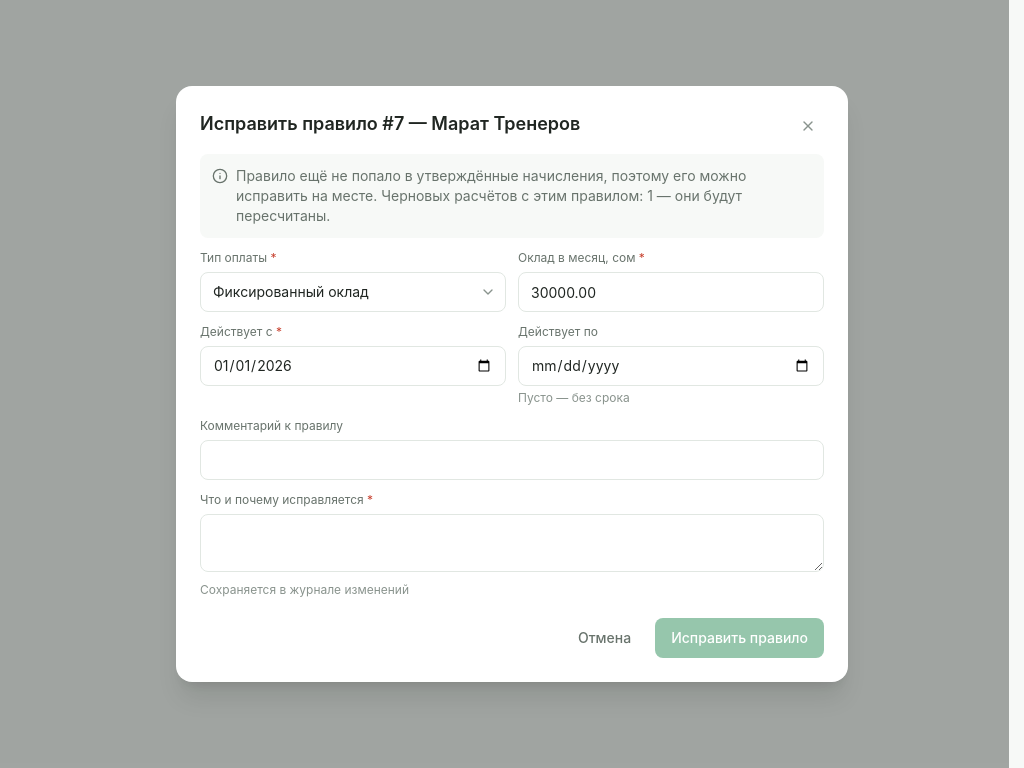
Test case: RuleCorrectionModal › shows the backend validation error and keeps the dialog open
Type "даты" into the text box labelled "Что и почему исправляется *". click: (512, 543)
box: top-left (200, 514), bottom-right (824, 572)
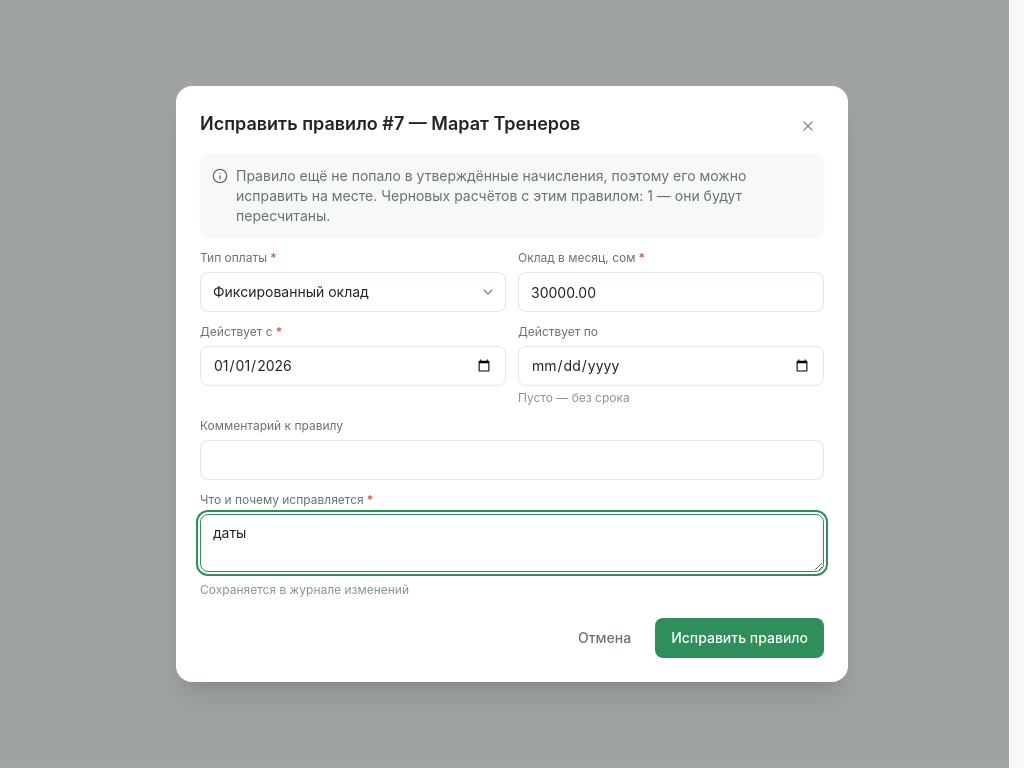
Click the button "Исправить правило". click: (740, 638)
box: top-left (655, 618), bottom-right (824, 658)
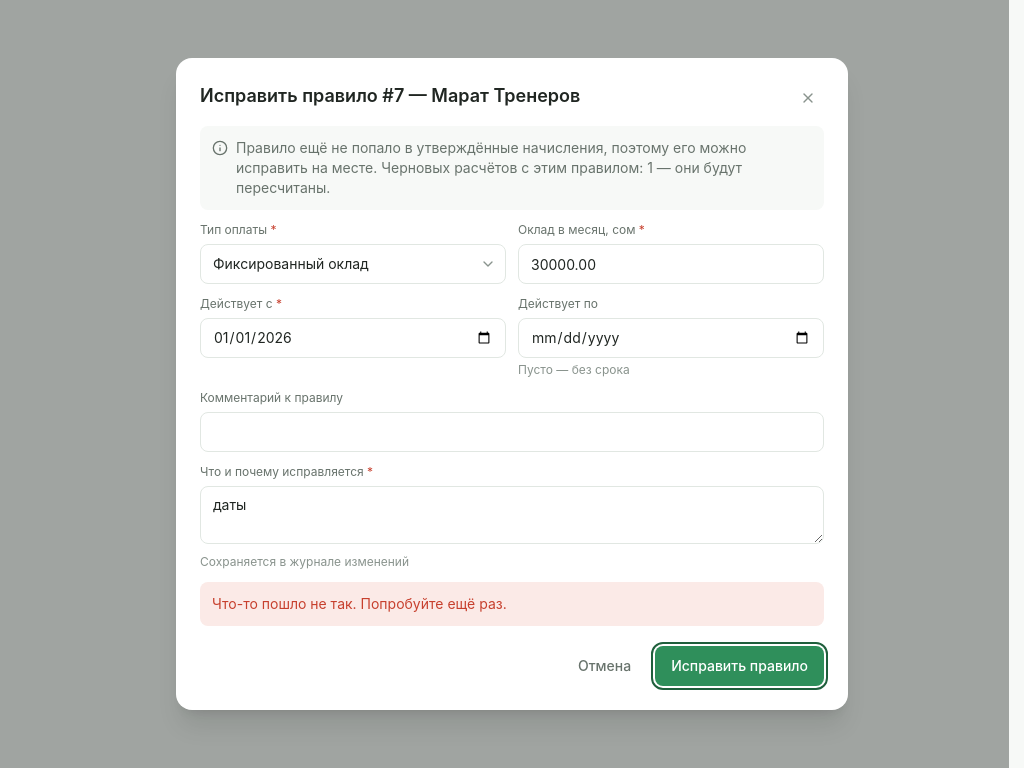
Expected: the message "Что-то пошло не так. Попробуйте ещё раз." is shown, top-left (200, 582), bottom-right (824, 626)
